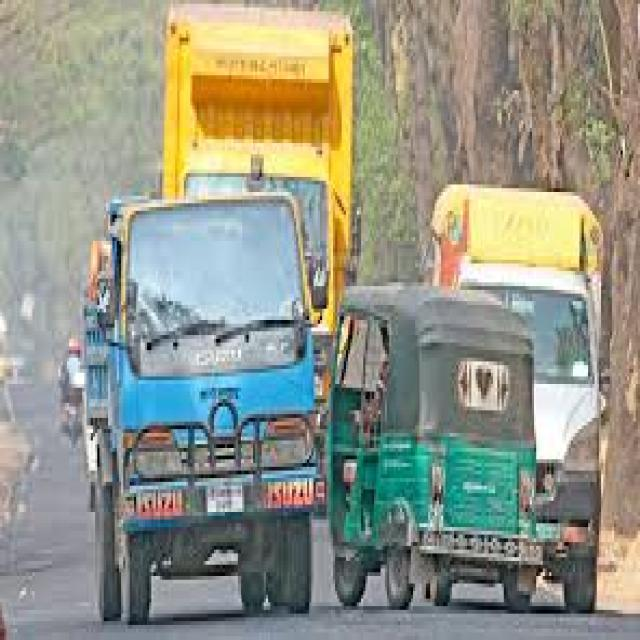three wheeler: (329, 286, 541, 610)
truck: (84, 192, 318, 621), (432, 184, 599, 610), (163, 4, 350, 346)
